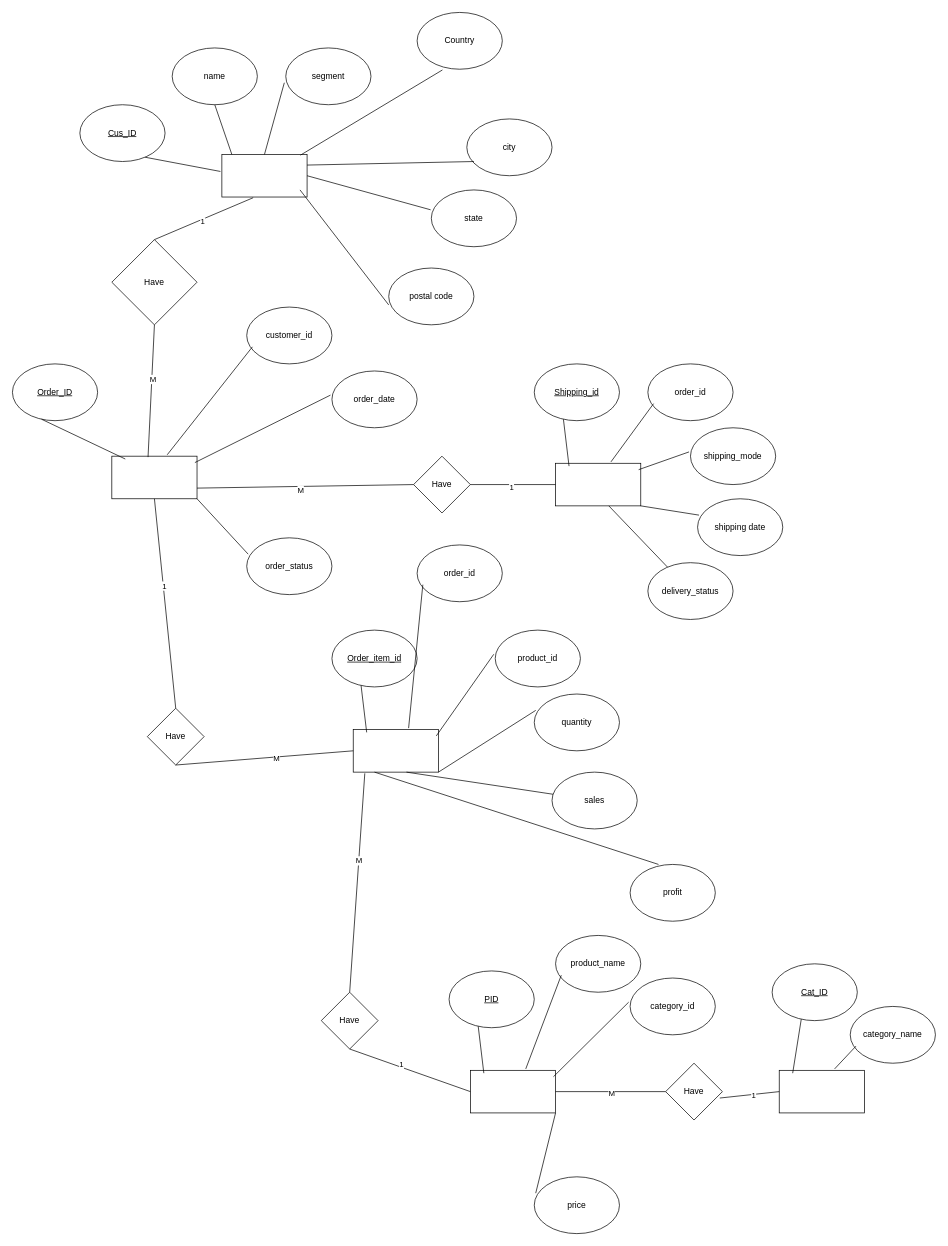
This 948x1246 diagram has some shape labels left out. The shapes that lost their labels are listed below. From the top down, each one's centre as x and y in pixels, then its label:
At point (264, 175): "Customer".
At point (154, 477): "Orders".
At point (598, 484): "Shipping".
At point (395, 750): "Order_items".
At point (513, 1091): "product".
At point (821, 1091): "Category".
